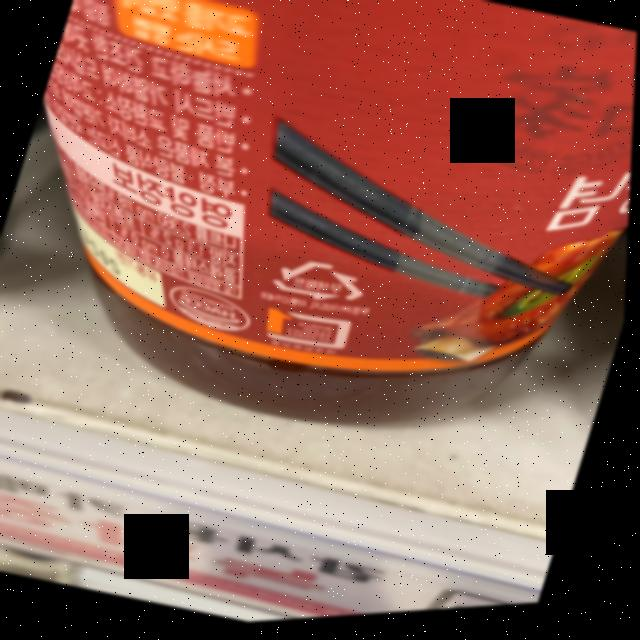ColorlessPET: (267, 250, 379, 322)
